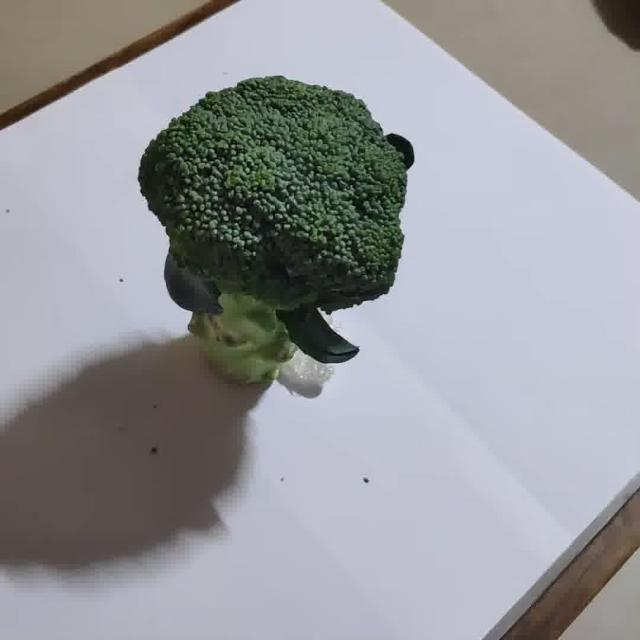Broccoli: (139, 76, 414, 396)
